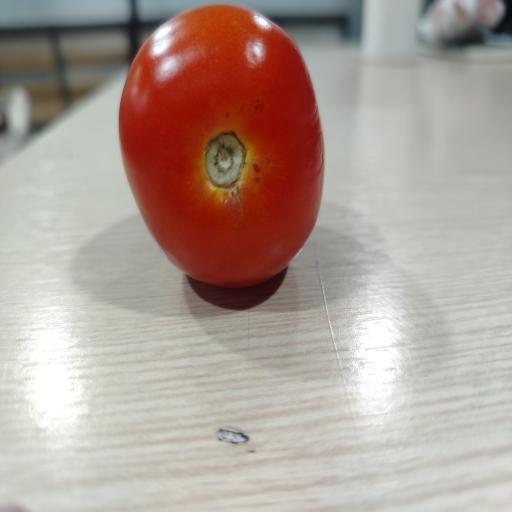overipe: (119, 5, 324, 287)
